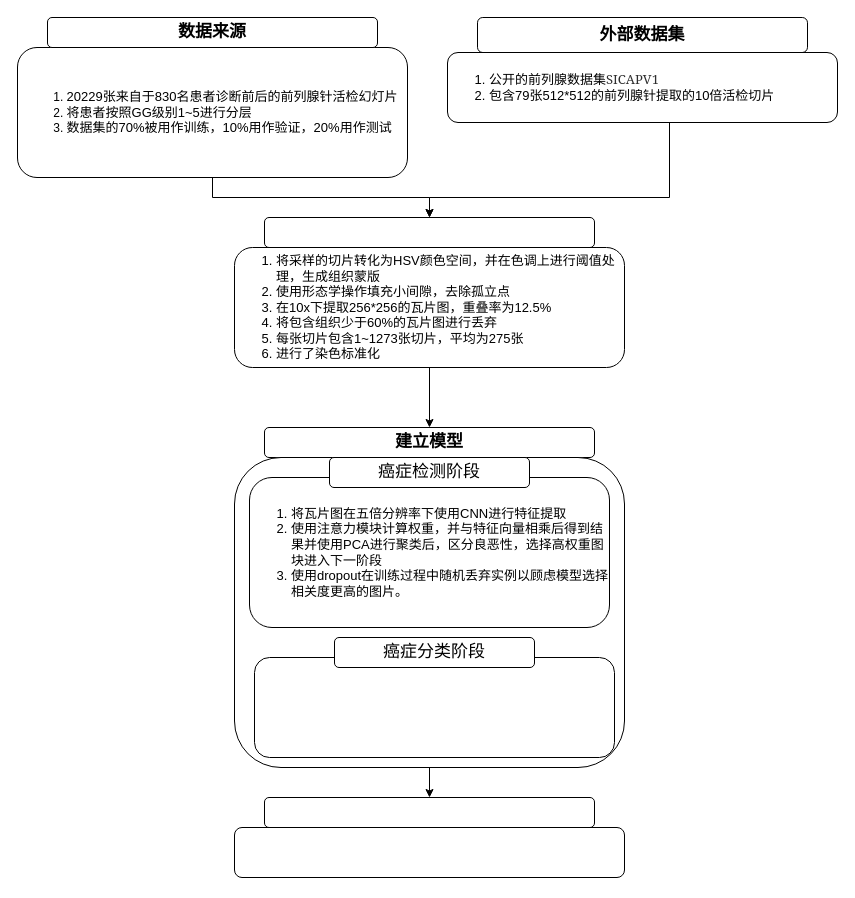
Some shapes in this 855 by 898 pixel diagram are drawn without their labels. Each missing label, with the box of its shape:
使用ACC，AUROC和AP对模型进行评估 针对癌症等级分类，计算了Kappa值: (234, 826, 624, 878)
将选定瓦片图在十倍分辨率下使用CNN进行特征提取。 使用注意力模块计算权重，并与特征向量相乘后得到结果并使用PCA进行聚类后，进行癌症等级预测: (254, 656, 614, 758)
数据预处理: (264, 216, 594, 248)
模型评估: (264, 796, 594, 828)
